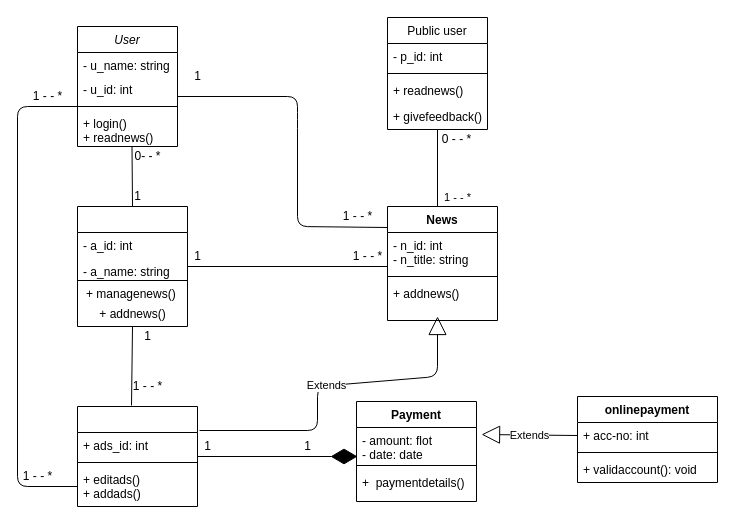
Some shapes in this 735 by 527 pixel diagram are drawn without their labels. Each missing label, with the box of its shape:
Admin: (76, 206, 188, 326)
Advertisement: (76, 406, 198, 506)
